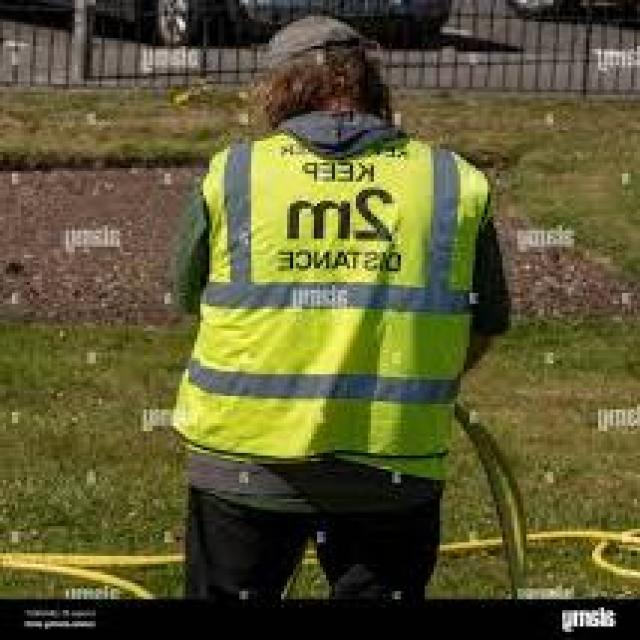Reflective-Jacket: (162, 122, 508, 480)
